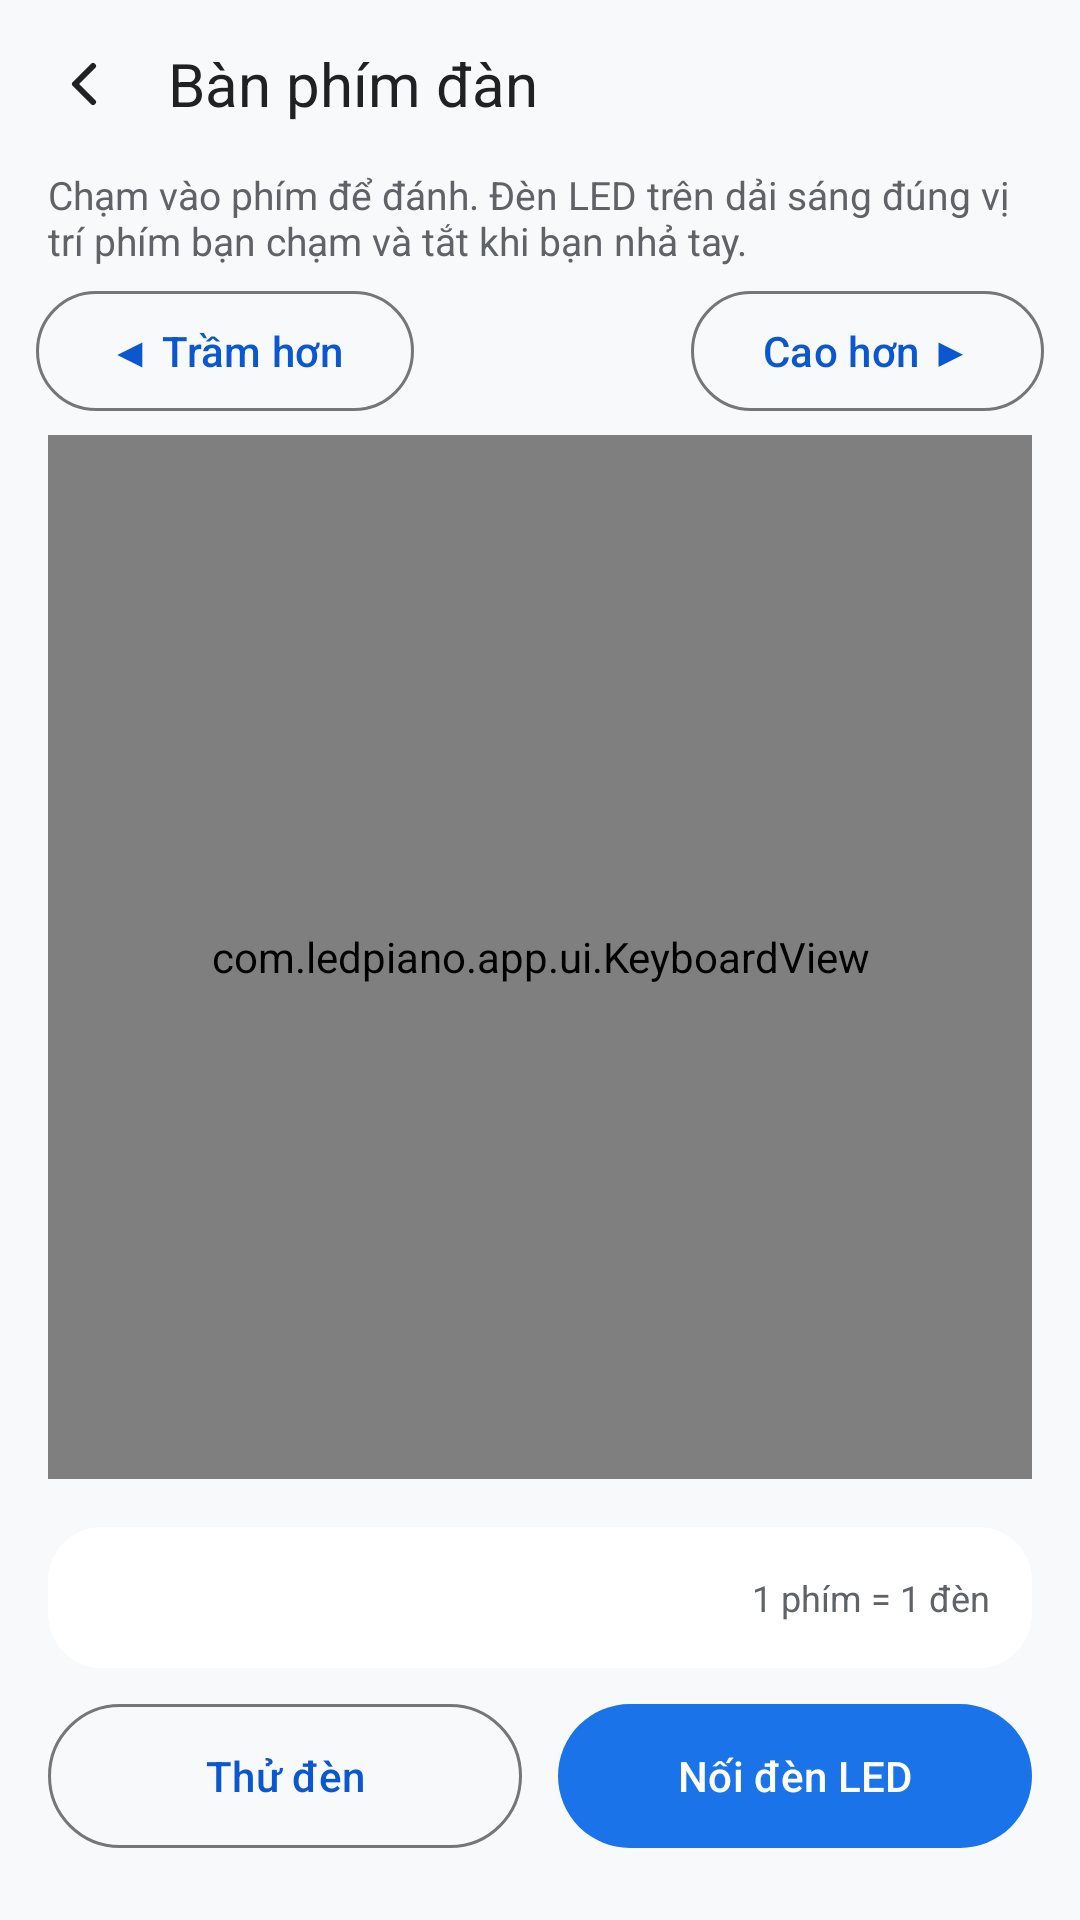

Named icons in this screenshot (1080px×1920px) and their bounding boxes, (x1, y1, x2, y2):
Quay lại: (72, 63, 96, 105)
